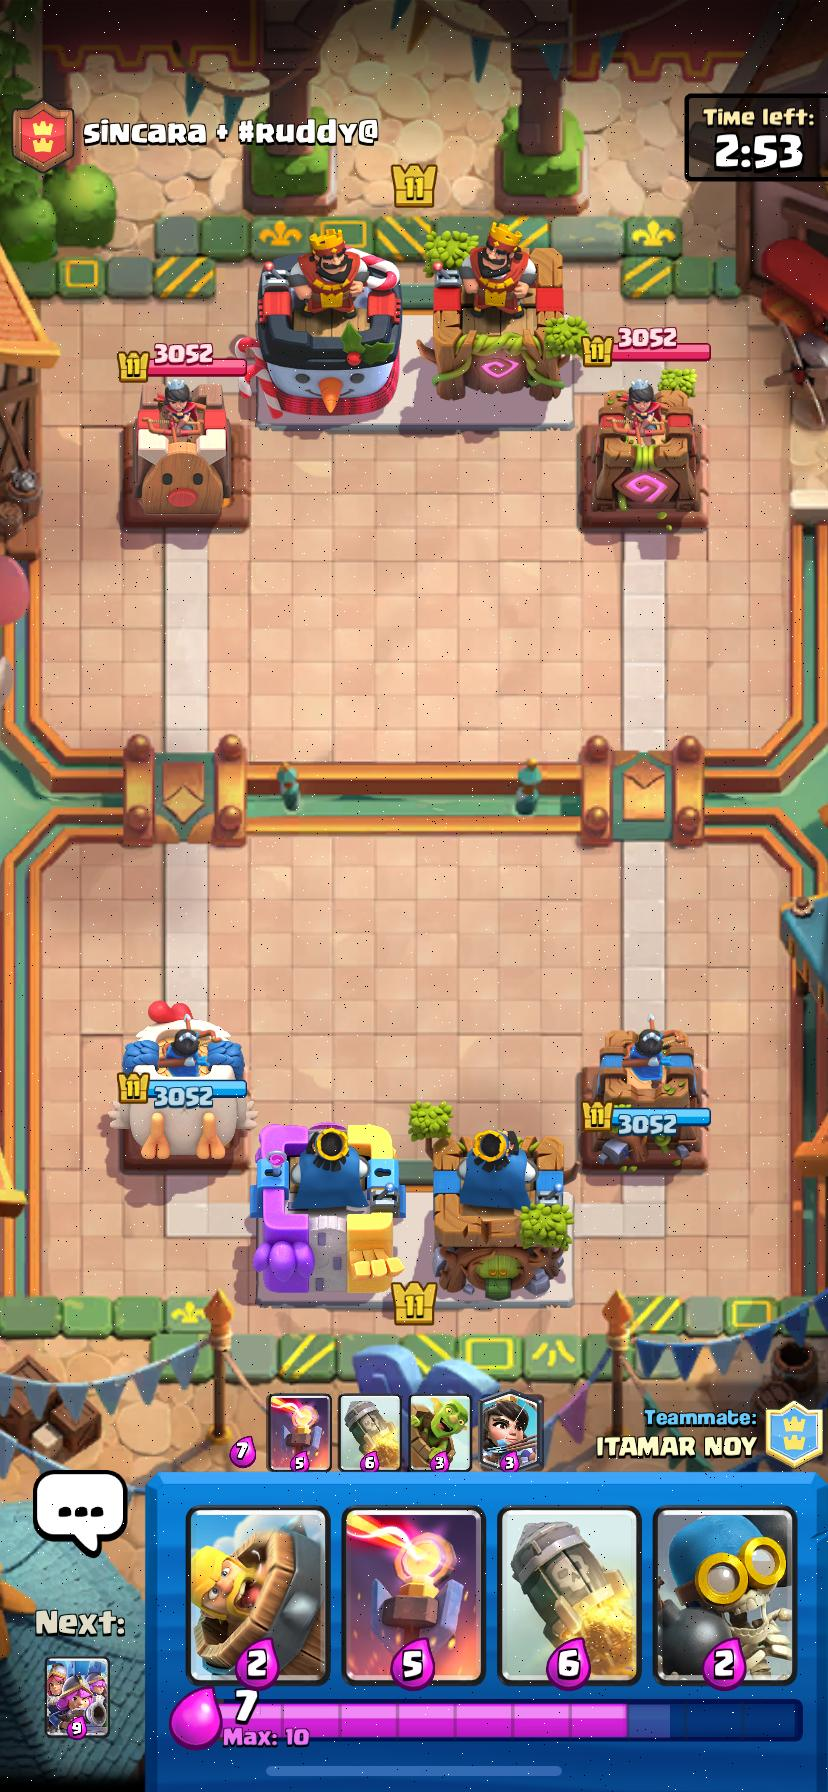EKingTower: (417, 223, 578, 401), (256, 229, 401, 421)
EnemyPrincessTower: (580, 379, 706, 529), (122, 382, 250, 527)
OwnKingTower: (250, 1123, 405, 1302), (433, 1130, 572, 1299)
OwnPrincessTower: (109, 1001, 255, 1161), (579, 1018, 710, 1171)
